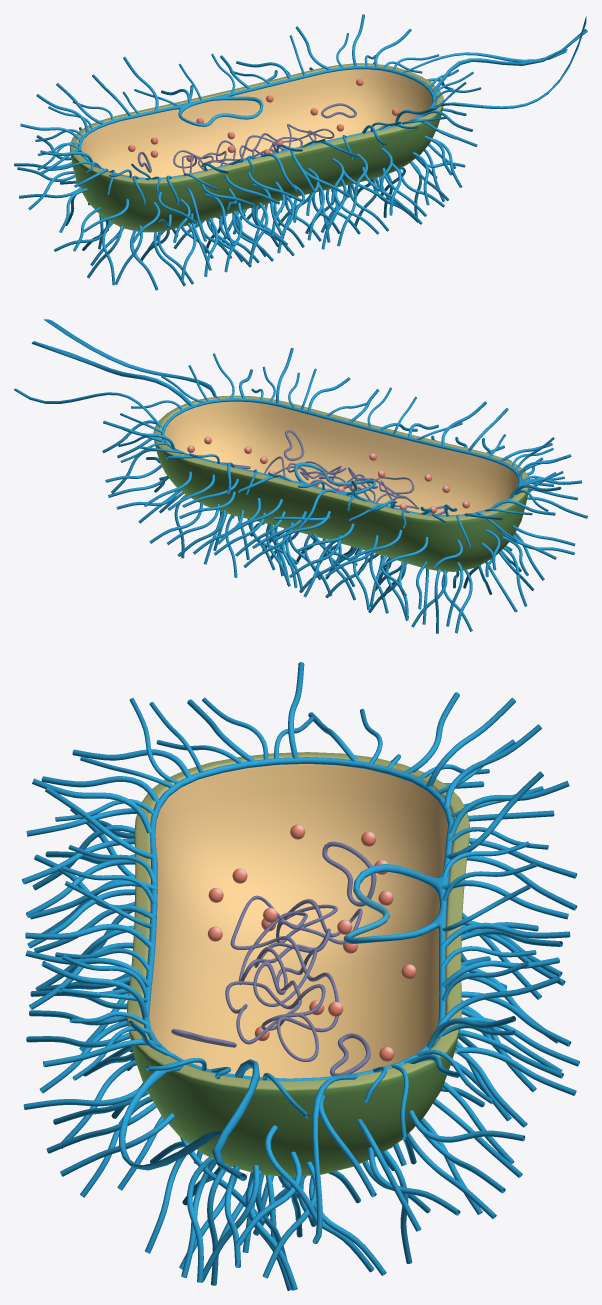
The model's file is archaea.glb.
The picture shows the model from 3 angles, top to bottom: view 1: azimuth 30°, elevation 25°; view 2: azimuth 150°, elevation 25°; view 3: azimuth 270°, elevation 25°; orthographic projection. The views are drawn at different scales.
Visible parts, largest first — view 1: Box001_tt_0, Line001_tt_0, Line005_tt_0, Line030_tt_0, Line031_tt_0, Line029_tt_0; view 2: Box001_tt_0, Line001_tt_0, Line005_tt_0, Line030_tt_0, Line031_tt_0, Line029_tt_0; view 3: Box001_tt_0, Line001_tt_0, Line005_tt_0, Line031_tt_0, Line030_tt_0, Line029_tt_0, Line007_tt_0, Line018_tt_0, Line014_tt_0, Line319_tt_0, Line297_tt_0, Line442_tt_0 (+12 smaller).
Boxes of the visible parts, bbox=[...] form: Box001_tt_0: bbox=[70, 63, 443, 232]; Line001_tt_0: bbox=[78, 66, 435, 179]; Line005_tt_0: bbox=[173, 124, 334, 173]; Line030_tt_0: bbox=[431, 29, 587, 93]; Line031_tt_0: bbox=[430, 16, 586, 108]; Line029_tt_0: bbox=[399, 49, 567, 74]; Box001_tt_0: bbox=[153, 395, 529, 571]; Line001_tt_0: bbox=[161, 398, 521, 516]; Line005_tt_0: bbox=[264, 456, 419, 509]; Line030_tt_0: bbox=[31, 341, 193, 406]; Line031_tt_0: bbox=[44, 319, 220, 399]; Line029_tt_0: bbox=[14, 388, 162, 428]; Box001_tt_0: bbox=[126, 752, 469, 1176]; Line001_tt_0: bbox=[143, 757, 453, 1081]; Line005_tt_0: bbox=[225, 895, 362, 1061]; Line031_tt_0: bbox=[119, 1062, 222, 1170]; Line030_tt_0: bbox=[212, 1059, 259, 1180]; Line029_tt_0: bbox=[312, 1074, 359, 1243]; Line007_tt_0: bbox=[441, 922, 570, 948]; Line018_tt_0: bbox=[32, 778, 152, 833]; Line014_tt_0: bbox=[25, 924, 153, 947]; Line319_tt_0: bbox=[454, 1047, 576, 1095]; Line297_tt_0: bbox=[187, 1156, 213, 1282]; Line442_tt_0: bbox=[408, 1110, 525, 1142].
Bounding box in the file's own units: 0.2562 × 0.0798 × 0.1155.
Materials: 2 (2 with a texture image).
